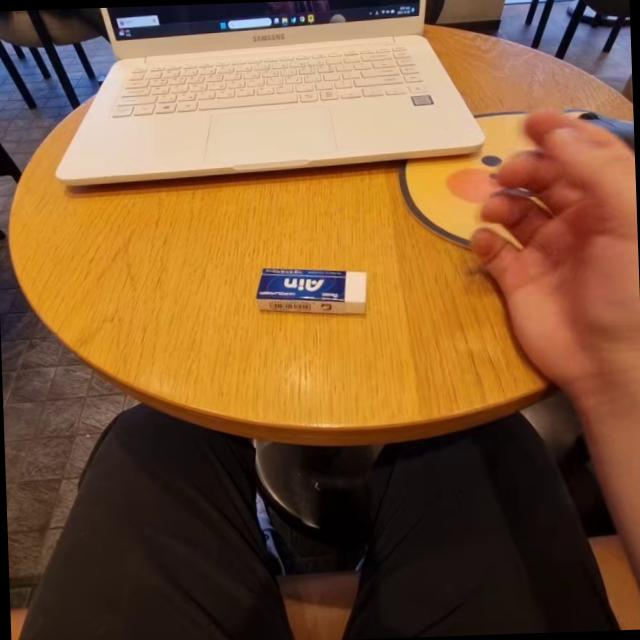eraser: (250, 242, 372, 328)
hand: (464, 100, 640, 389)
